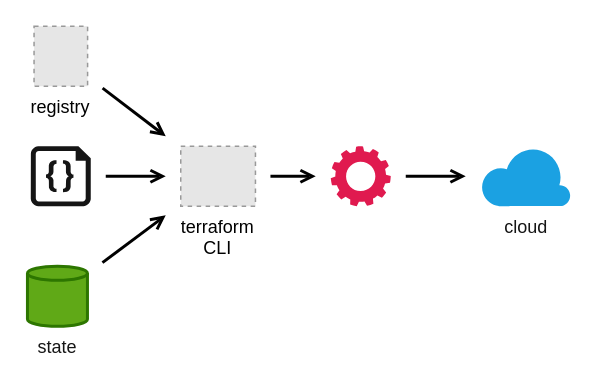
Image size: 597x384. Some labels were removed from this diagram. Grey dashed boxes stand in for pictures. Here are the shapes that lost their labels. From the top down, the centre of each, then its label:
At point (60, 176): "code".
At point (360, 176): "providers".
